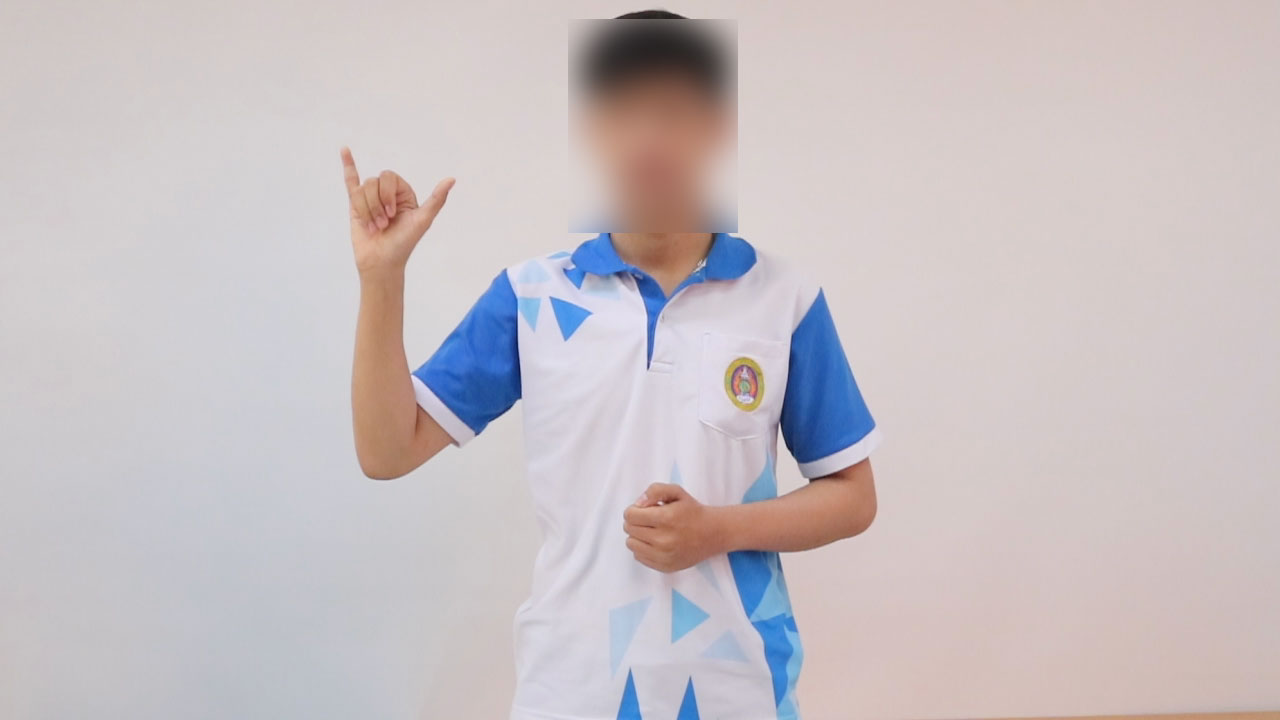yor: (326, 139, 462, 275)
